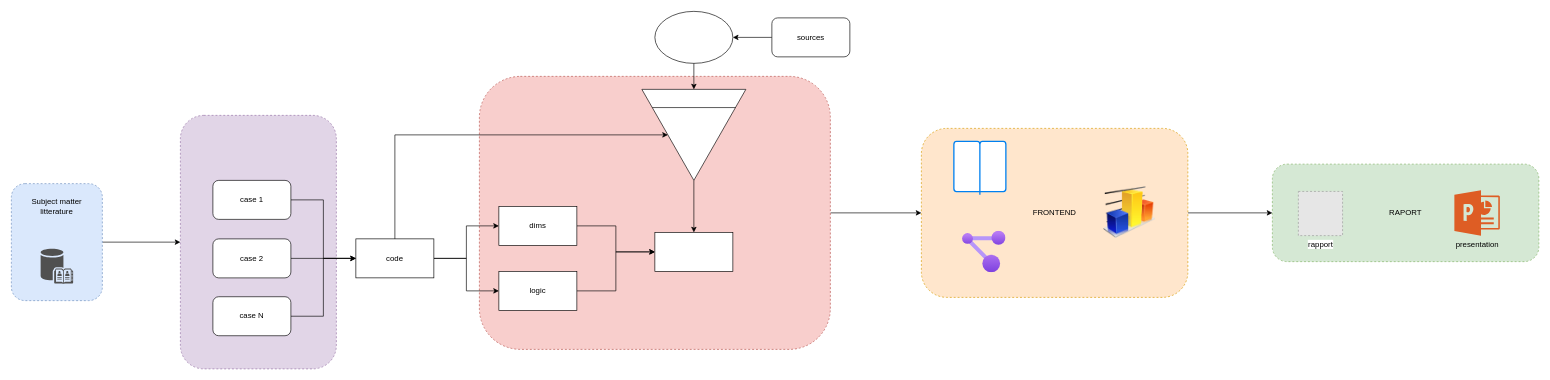
This 1550x380 diagram has some shape labels left out. Grey dashed boxes stand in for pictures. The box of each missing label's shape, as (x1, y1, x2, y2) in pixels:
BACKEND: (479, 76, 830, 349)
data: (953, 140, 1006, 195)
facts: (654, 11, 733, 63)
formatted_facts: (654, 232, 733, 271)
graphs: (1103, 186, 1155, 238)
ralations: (962, 231, 1006, 272)
